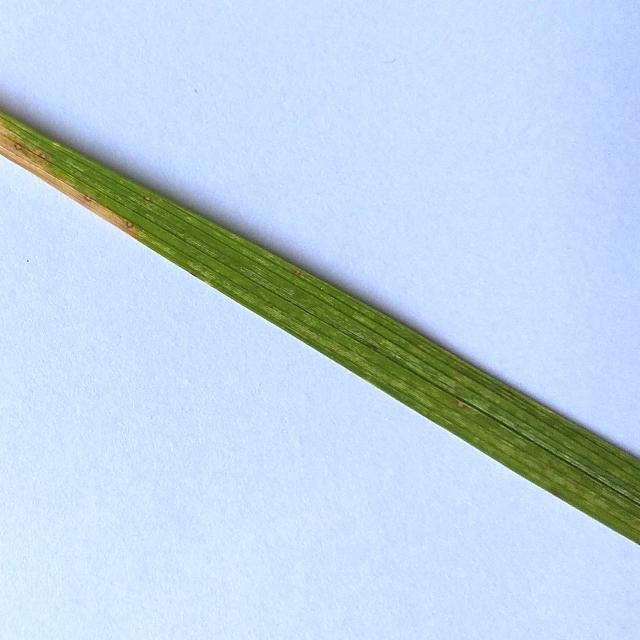Blast: (14, 138, 56, 166), (453, 396, 468, 409), (124, 217, 140, 229), (140, 193, 156, 204), (82, 192, 96, 204)
